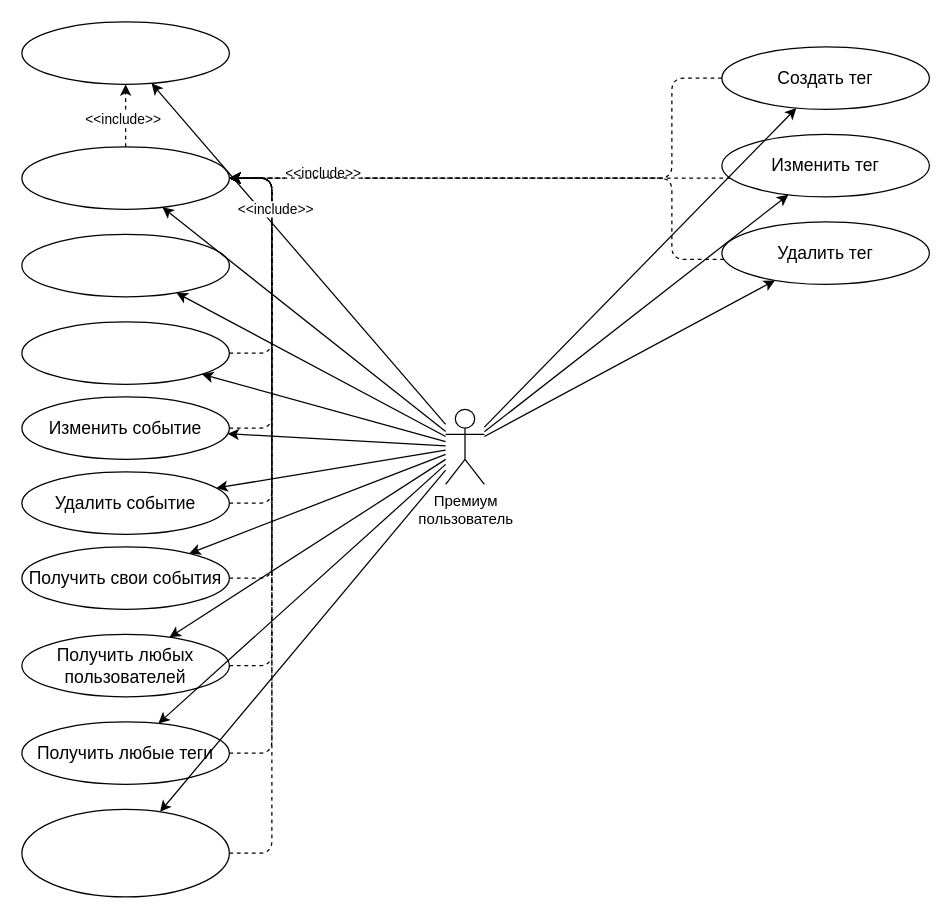
The diagram is 951 pixels wide and 919 high, and some of its shapes have lost their labels. Each missing label, with the centre of its shape:
Войти в систему: point (125, 177)
Зарегистрироваться: point (125, 52)
Изменить своего пользователя: point (125, 265)
Произвести поиск событий с фильтрацией: point (125, 852)
Создать событие: point (125, 352)
